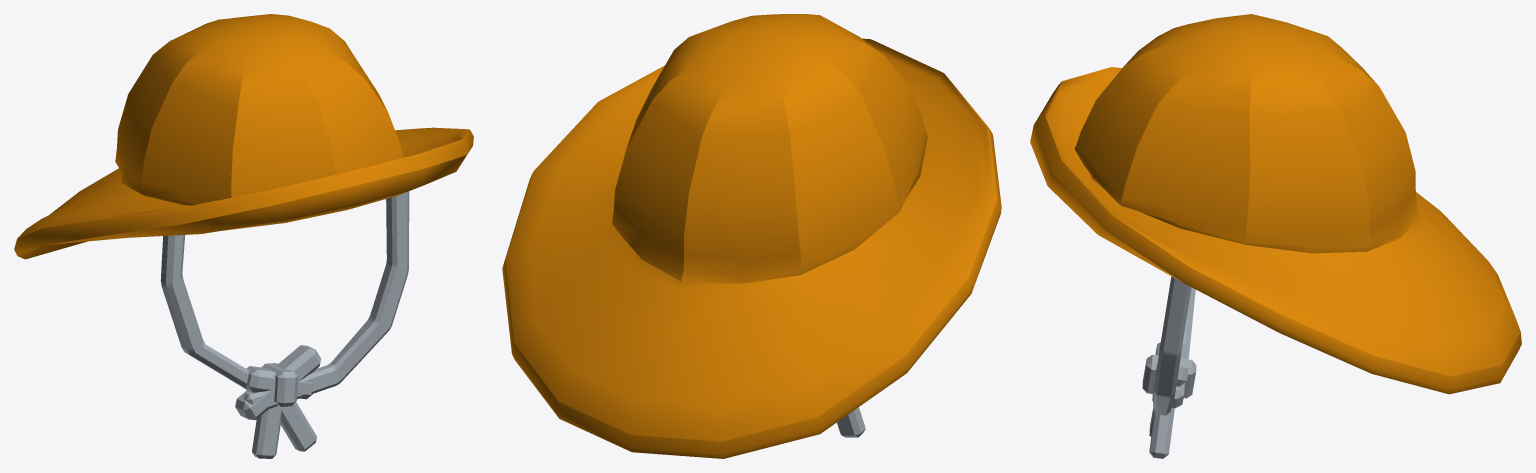
The model's file is hat.fbx.
The picture shows the model from 3 angles, left to right: view 1: azimuth 30°, elevation 25°; view 2: azimuth 150°, elevation 25°; view 3: azimuth 270°, elevation 25°; orthographic projection. The views are drawn at different scales.
Visible parts, largest first — view 1: hat_geo; view 2: hat_geo; view 3: hat_geo.
Part boxes in pixels (<box>): hat_geo: <box>14,14,473,458</box>; hat_geo: <box>502,14,1001,458</box>; hat_geo: <box>1030,14,1521,458</box>.
Size of the model in its own units: 2.31 by 2.13 by 2.23.
